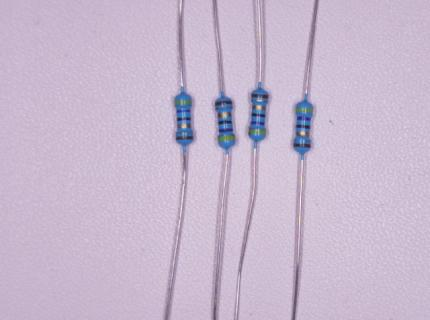Black band: (218, 121, 232, 125), (251, 113, 265, 117), (177, 117, 190, 121), (297, 125, 310, 129)
Brown band: (176, 136, 193, 141), (294, 143, 311, 148), (216, 101, 232, 106), (251, 94, 269, 98)
Gold band: (178, 123, 191, 129), (218, 112, 231, 118), (252, 105, 265, 110), (296, 132, 309, 137)
Violet band: (251, 121, 265, 126), (297, 116, 311, 121), (219, 129, 233, 133), (177, 109, 190, 113)
Yellow band: (175, 99, 191, 105), (219, 135, 235, 141), (250, 128, 266, 134), (296, 107, 313, 112)
